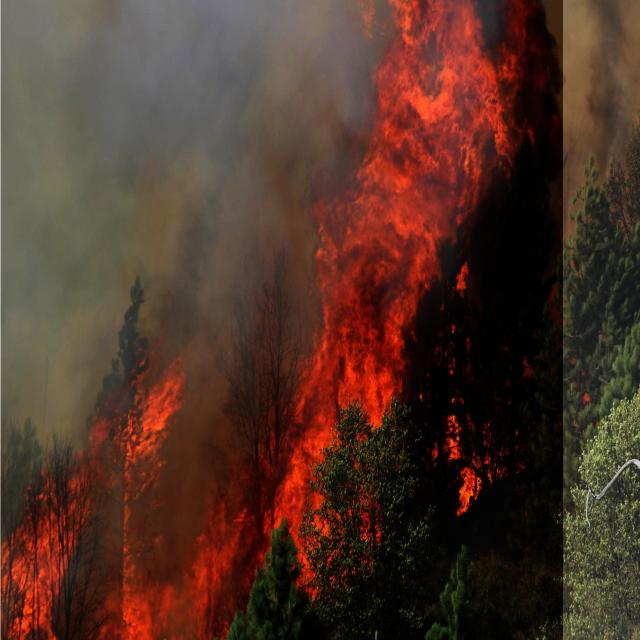Fire: (1, 0, 563, 640)
